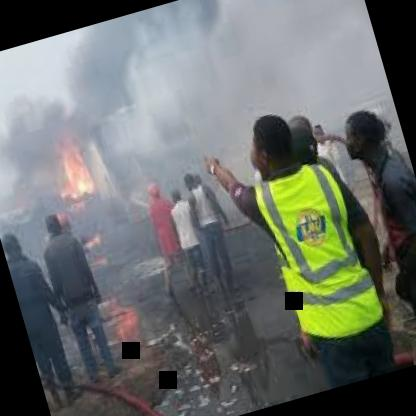fire: (0, 77, 132, 222)
